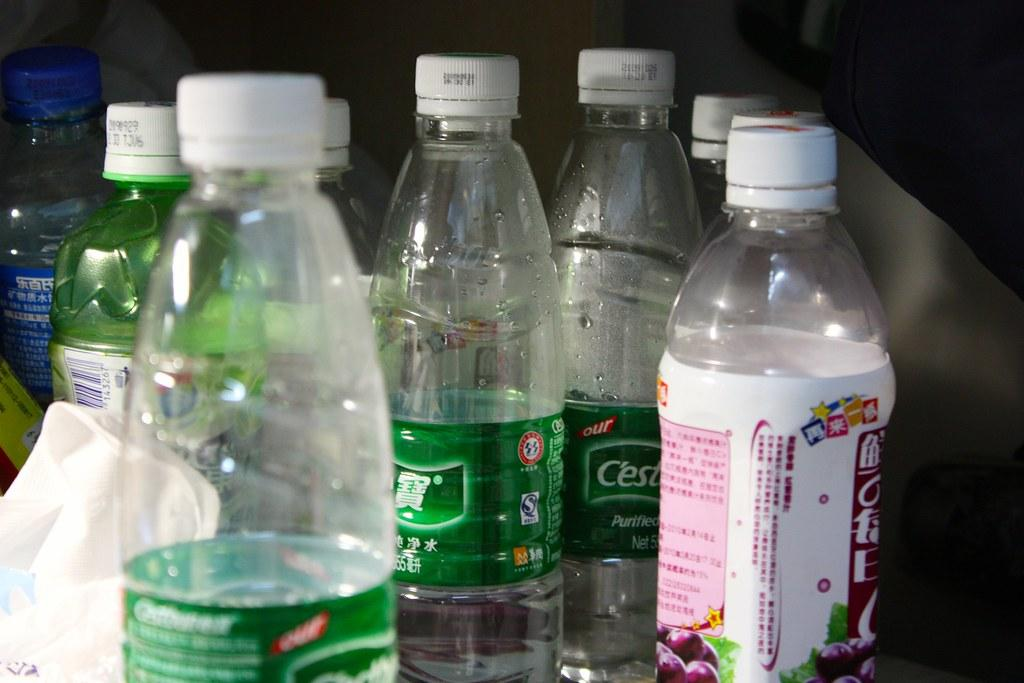bottle: (119, 72, 400, 683), (655, 118, 897, 683), (367, 52, 568, 682), (548, 47, 705, 683), (48, 100, 194, 426), (1, 45, 112, 412), (690, 93, 781, 231), (314, 98, 378, 278)
